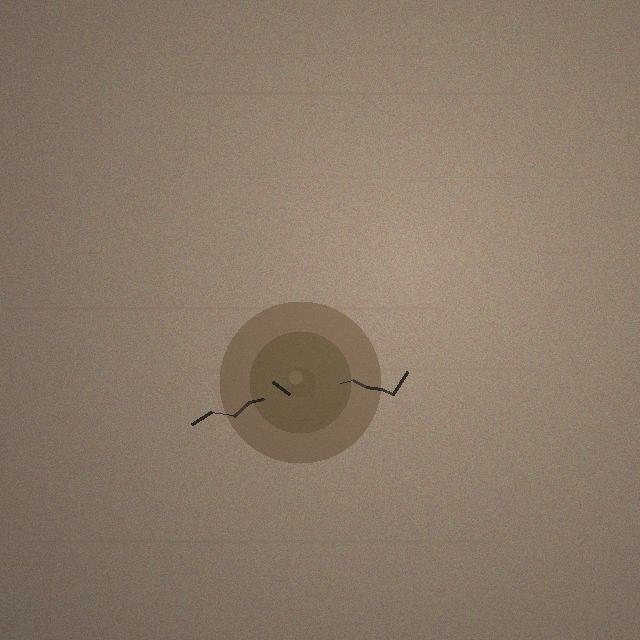crack: (219, 301, 381, 463)
